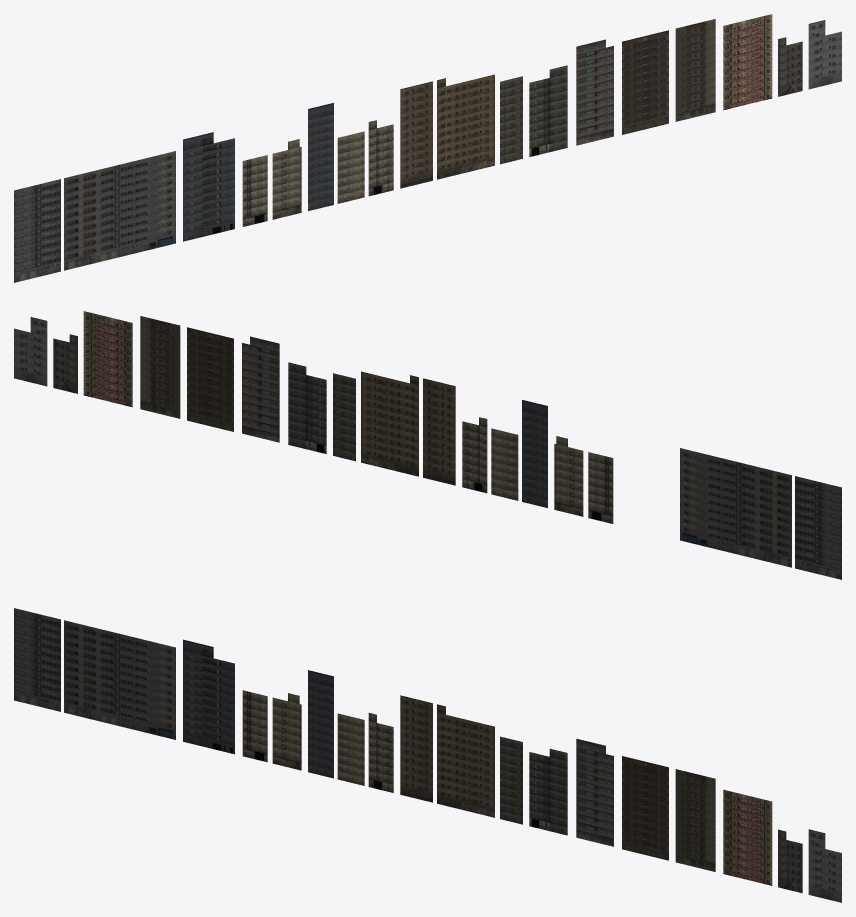
File: Skyline.FBX
The picture shows the model from 3 angles, top to bottom: view 1: azimuth 30°, elevation 25°; view 2: azimuth 150°, elevation 25°; view 3: azimuth 330°, elevation 25°; orthographic projection.
Parts seen in each view (by area): view 1: Skyline; view 2: Skyline; view 3: Skyline.
Boxes of the visible parts, left/top/right/bottom form: Skyline: left=14, top=14, right=841, bottom=282; Skyline: left=14, top=311, right=841, bottom=579; Skyline: left=14, top=608, right=841, bottom=902.
Bounding box in the file's own units: 53612 × 6350 × 0.000366.
1 material, 1 textured.
